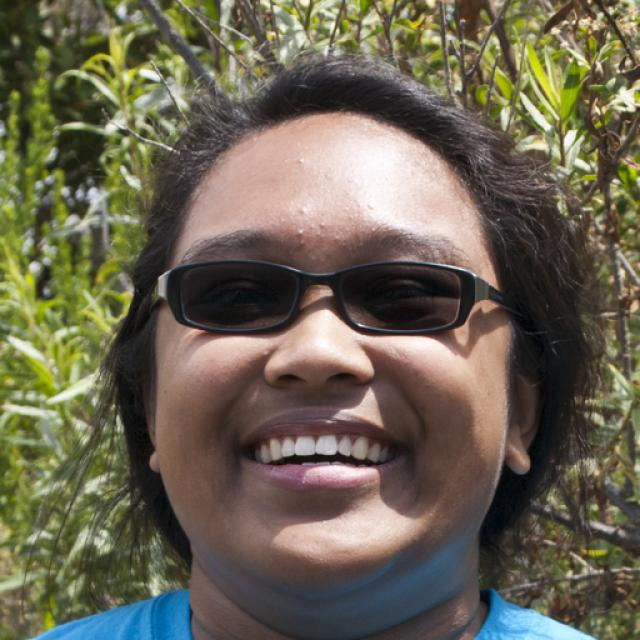Acne: (306, 221, 331, 239), (291, 202, 314, 220), (292, 223, 308, 248), (360, 196, 386, 211), (329, 227, 345, 249), (256, 348, 280, 361), (294, 150, 306, 167)
